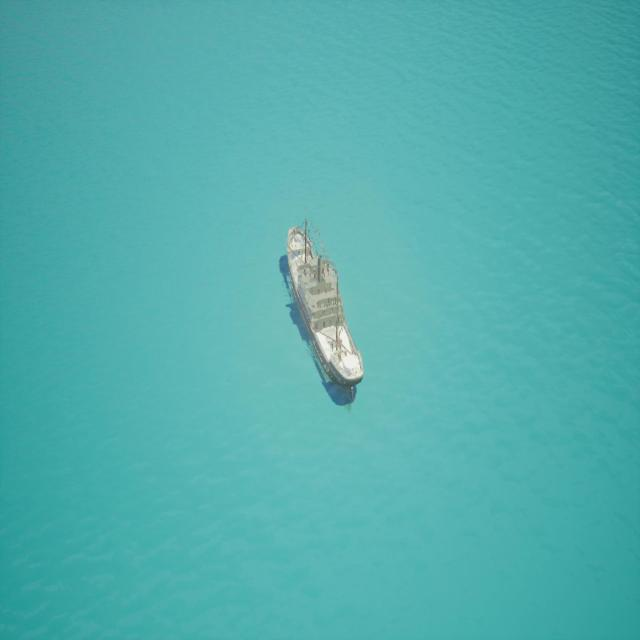fishing ship: (268, 192, 384, 428)
